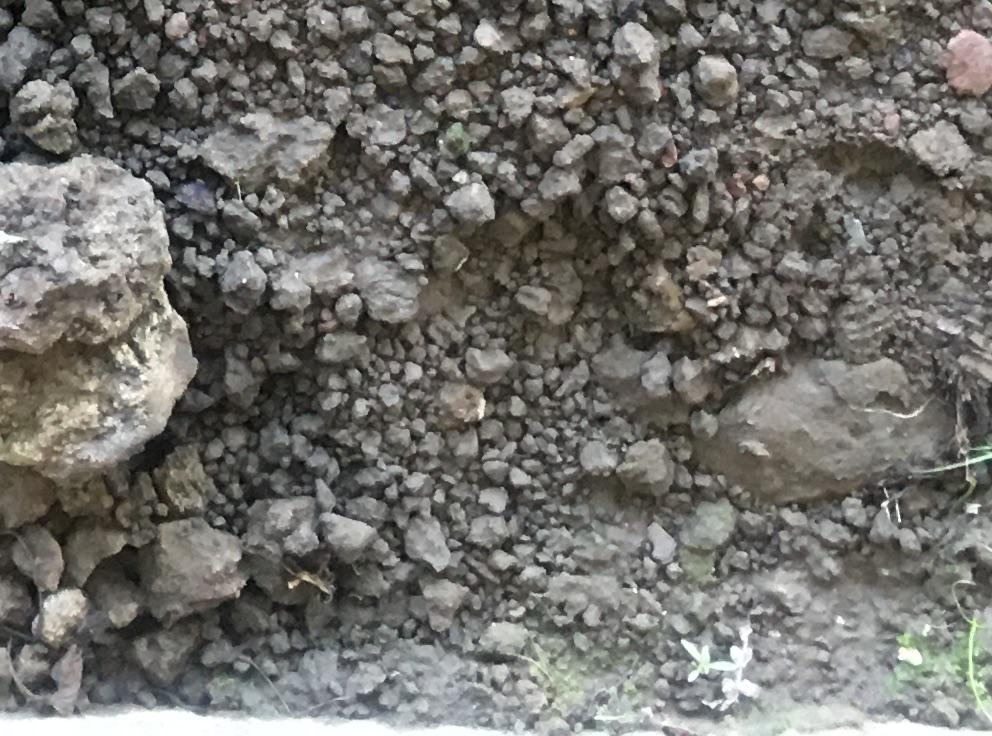block: (1, 305, 197, 479), (1, 164, 168, 355)
